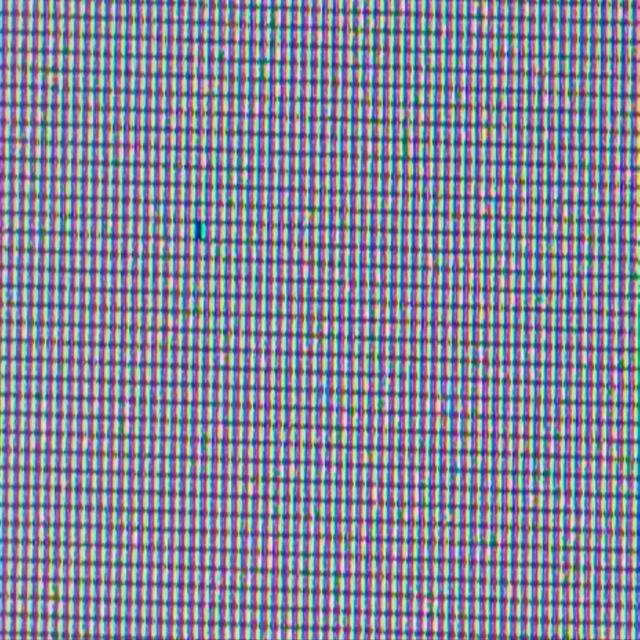Dead pixel: (194, 218, 203, 242)
